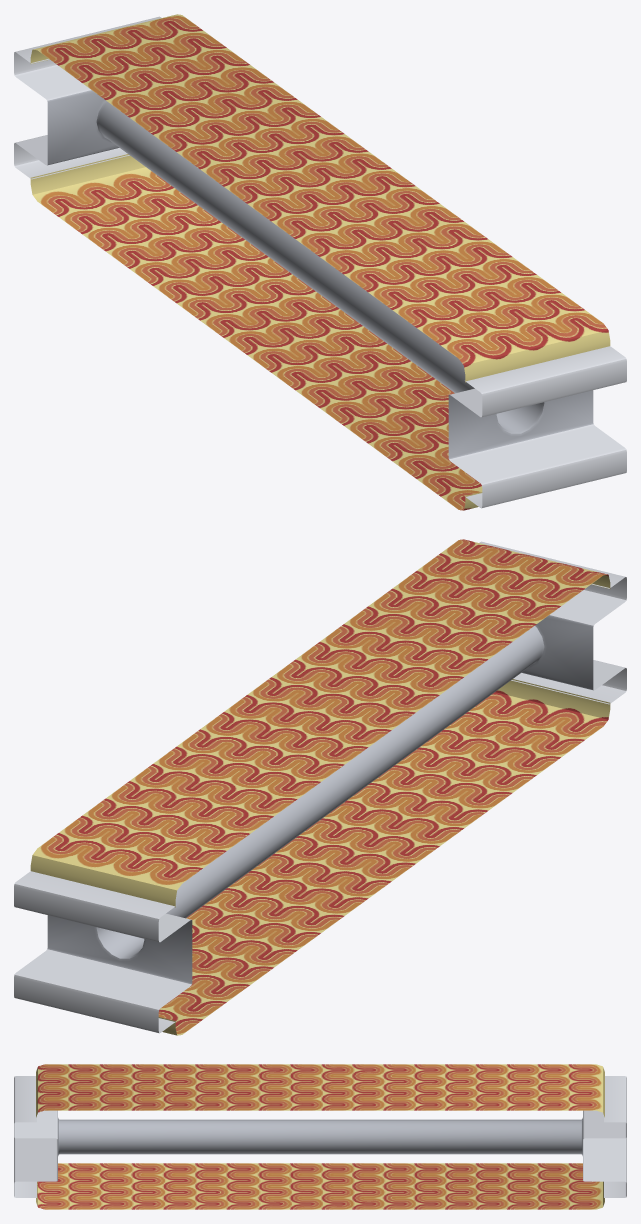
The model's file is SM_Wall_50x50.fbx.
3 views of the same model, one above another, from view 1: azimuth 30°, elevation 25°; view 2: azimuth 150°, elevation 25°; view 3: azimuth 270°, elevation 25° (orthographic). The views are drawn at different scales.
Parts seen in each view (by area): view 1: SM_Wall_50x50; view 2: SM_Wall_50x50; view 3: SM_Wall_50x50.
Part boxes in pixels (x1=…): SM_Wall_50x50: x1=14, y1=14, x2=626, y2=510; SM_Wall_50x50: x1=14, y1=539, x2=626, y2=1035; SM_Wall_50x50: x1=14, y1=1064, x2=626, y2=1209.
Size of the model in its own units: 50 by 280 by 49.9.
Materials: 1 (1 with a texture image).
